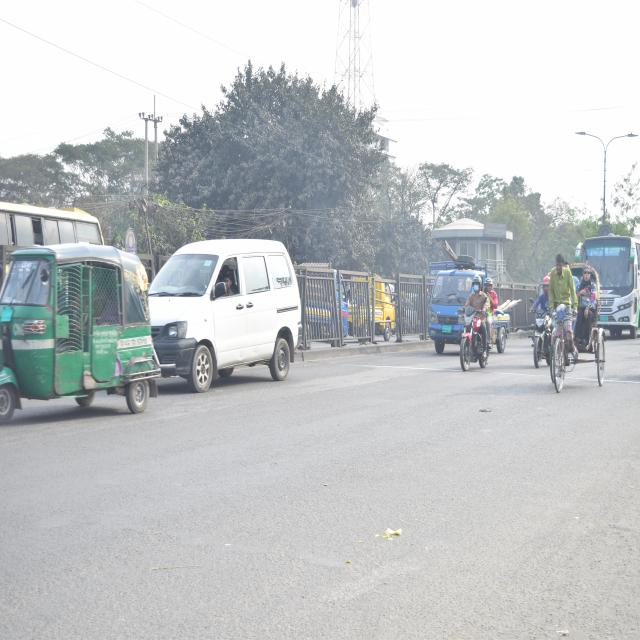bus: (580, 228, 640, 334)
car: (142, 220, 303, 404)
motorbike: (449, 293, 496, 374), (520, 290, 549, 376)
pickup-van: (423, 246, 482, 355)
